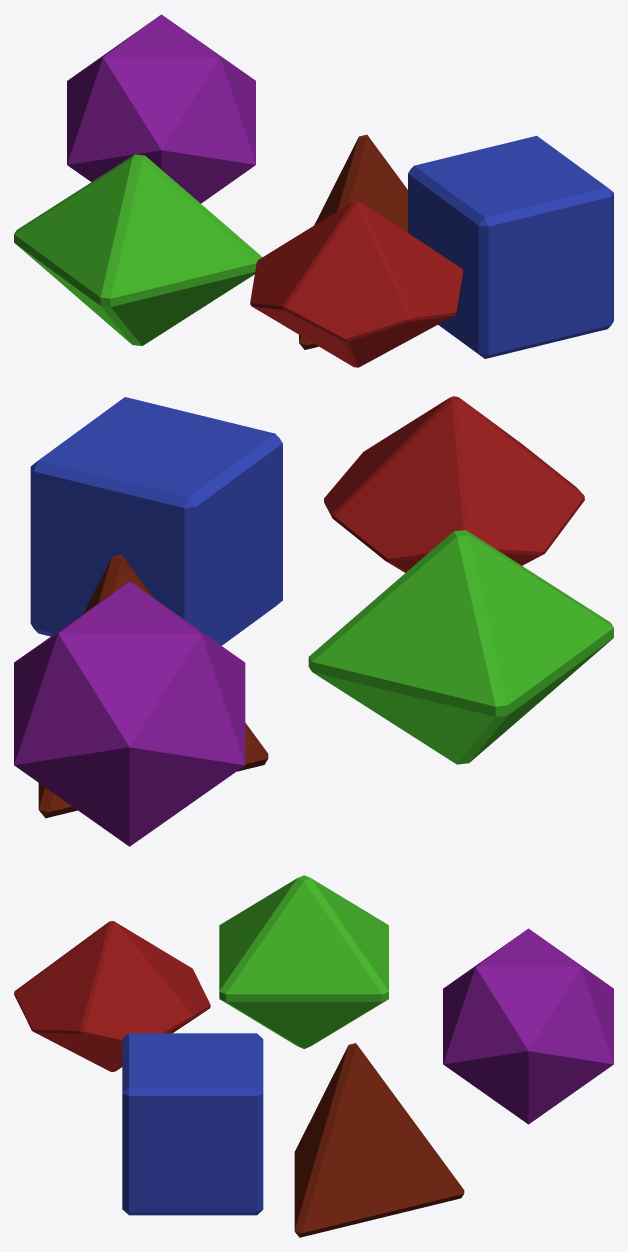
The model's file is Dice.fbx.
The picture shows the model from 3 angles, top to bottom: view 1: azimuth 30°, elevation 25°; view 2: azimuth 150°, elevation 25°; view 3: azimuth 270°, elevation 25°; orthographic projection. The views are drawn at different scales.
Visible parts, largest first — view 1: Cube.002, Cube.001, Icosphere, Cylinder.002, Cylinder.001; view 2: Cube.002, Icosphere, Cube.001, Cylinder.002, Cylinder.001; view 3: Cube.002, Icosphere, Cube.001, Cylinder.001, Cylinder.002.
Part boxes in pixels (left/top/right/bottom): Cube.002: left=408, top=135, right=613, bottom=358; Cube.001: left=14, top=154, right=262, bottom=345; Icosphere: left=67, top=14, right=255, bottom=203; Cylinder.002: left=250, top=200, right=463, bottom=367; Cylinder.001: left=299, top=134, right=407, bottom=349; Cube.002: left=30, top=397, right=282, bottom=645; Icosphere: left=14, top=581, right=245, bottom=846; Cube.001: left=308, top=530, right=613, bottom=764; Cylinder.002: left=324, top=396, right=584, bottom=572; Cylinder.001: left=38, top=554, right=268, bottom=818; Cube.002: left=122, top=1033, right=263, bottom=1215; Icosphere: left=443, top=928, right=613, bottom=1124; Cube.001: left=219, top=875, right=388, bottom=1048; Cylinder.001: left=294, top=1043, right=464, bottom=1237; Cylinder.002: left=14, top=921, right=210, bottom=1071.
Bounding box in the file's own units: 477 × 235 × 597.
